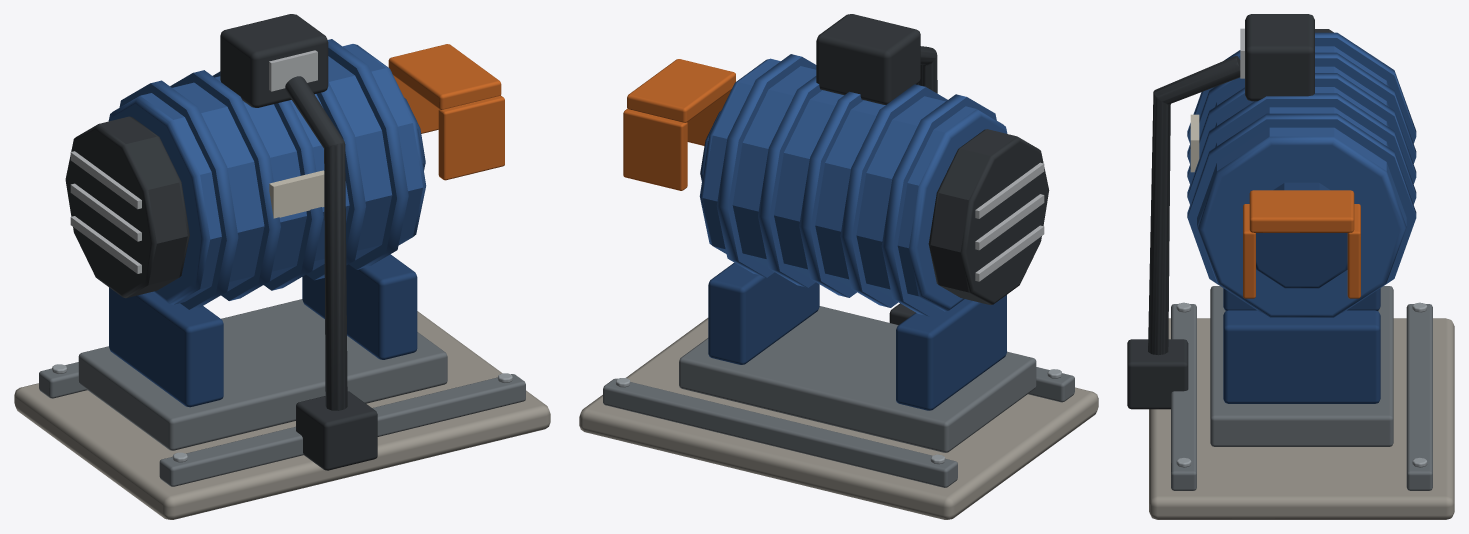
File: pp_motor.glb
3 views of the same model, side by side, from view 1: azimuth 30°, elevation 25°; view 2: azimuth 150°, elevation 25°; view 3: azimuth 270°, elevation 25° (orthographic). The views are drawn at different scales.
Parts seen in each view (by area): view 1: cyl.001, block.001, block.004, cyl.007, block.005, block.002, pipe, block.006, block.010, block.012, block.015, block.014 (+12 smaller); view 2: cyl.001, block.001, block.004, cyl.007, block.003, block.005, block.006, block.010, block, block.014, cyl.002, cyl.003 (+9 smaller); view 3: block.001, cyl.001, block.006, block.004, pipe, block.010, cyl.006, cyl, block.003, block.014, block.002, cyl.005 (+8 smaller).
Boxes of the visible parts, bbox=[...] form: cyl.001: bbox=[108, 44, 426, 304]; block.001: bbox=[14, 311, 550, 519]; block.004: bbox=[78, 299, 447, 450]; cyl.007: bbox=[65, 116, 189, 298]; block.005: bbox=[109, 287, 223, 407]; block.002: bbox=[159, 374, 525, 486]; pipe: bbox=[285, 76, 347, 410]; block.006: bbox=[302, 254, 417, 359]; block.010: bbox=[220, 14, 328, 107]; block.012: bbox=[296, 391, 377, 470]; block.015: bbox=[438, 95, 504, 180]; block.014: bbox=[388, 44, 501, 109]; cyl.001: bbox=[699, 58, 1007, 311]; block.001: bbox=[579, 318, 1098, 519]; block.004: bbox=[679, 306, 1036, 452]; cyl.007: bbox=[928, 129, 1049, 305]; block.003: bbox=[603, 378, 957, 487]; block.005: bbox=[896, 295, 1006, 410]; block.006: bbox=[708, 262, 819, 364]; block.010: bbox=[816, 14, 920, 104]; block: bbox=[623, 109, 687, 190]; block.014: bbox=[627, 59, 735, 122]; cyl.002: bbox=[881, 94, 996, 316]; cyl.003: bbox=[840, 84, 947, 307]; block.001: bbox=[1149, 318, 1454, 519]; cyl.001: bbox=[1197, 46, 1406, 317]; block.006: bbox=[1223, 310, 1380, 403]; block.004: bbox=[1210, 286, 1393, 446]; pipe: bbox=[1148, 56, 1240, 355]; block.010: bbox=[1245, 14, 1314, 101]; cyl.006: bbox=[1187, 113, 1416, 312]; cyl: bbox=[1256, 182, 1347, 288]; block.003: bbox=[1406, 304, 1432, 490]; block.014: bbox=[1249, 190, 1354, 232]; block.002: bbox=[1171, 304, 1196, 490]; cyl.005: bbox=[1187, 93, 1416, 204].
Bounding box in the file's own units: 1 × 0.99 × 0.75.
